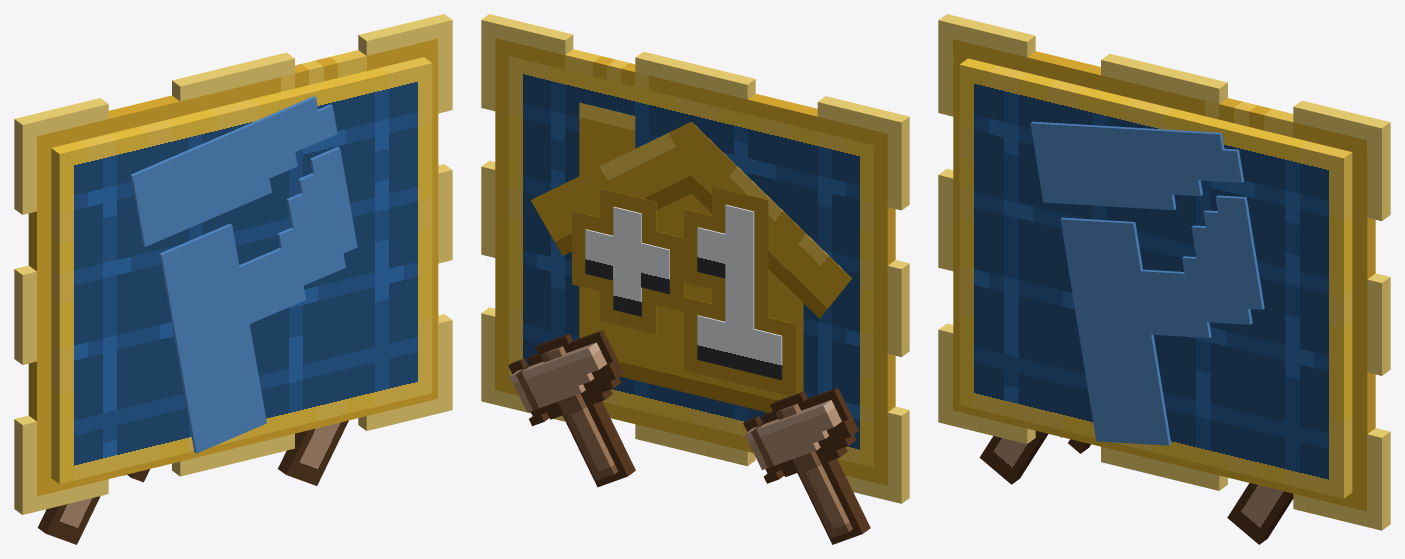
Rendered from bldg_up_gold_advanced.gltf.
3 renders of one model, left to right at view 1: azimuth 30°, elevation 25°; view 2: azimuth 150°, elevation 25°; view 3: azimuth 330°, elevation 25°, orthographic. The views are drawn at different scales.
Visible parts, largest first — view 1: plan-Local, backp-Local, skull02-Local, skull3$$(1)-Local; view 2: plan-Local, icon_border-Local, icon-Local, house_body-Local, skull02-Local, skull3$$(1)-Local, house_roof_2-Local, house_roof_1-Local; view 3: plan-Local, backp-Local, skull02-Local, skull3$$(1)-Local.
Part boxes in pixels (x1,y1,x2,y2): plan-Local: [14, 14, 452, 514]; backp-Local: [130, 96, 357, 453]; skull02-Local: [278, 420, 348, 485]; skull3$$(1)-Local: [37, 469, 149, 544]; plan-Local: [481, 14, 909, 503]; icon_border-Local: [572, 186, 796, 396]; icon-Local: [585, 204, 782, 380]; house_body-Local: [579, 102, 803, 412]; skull02-Local: [508, 330, 635, 487]; skull3$$(1)-Local: [743, 387, 870, 544]; house_roof_2-Local: [675, 121, 851, 318]; house_roof_1-Local: [530, 122, 697, 255]; plan-Local: [938, 14, 1390, 530]; backp-Local: [1030, 121, 1264, 445]; skull02-Local: [1227, 483, 1293, 544]; skull3$$(1)-Local: [979, 431, 1090, 484].
Bounding box in the file's own units: 60 × 58.83 × 7.52.
9 materials, 9 textured.
